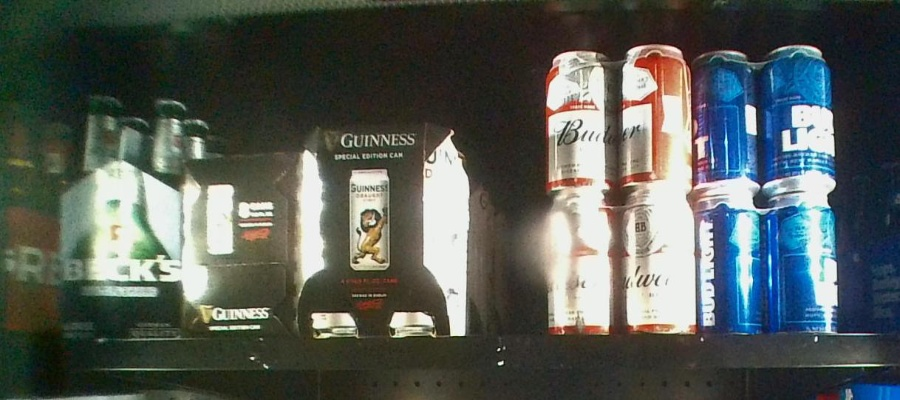bottle: (545, 43, 695, 336), (695, 46, 839, 336), (301, 124, 460, 338), (61, 93, 181, 335), (183, 146, 301, 333)
